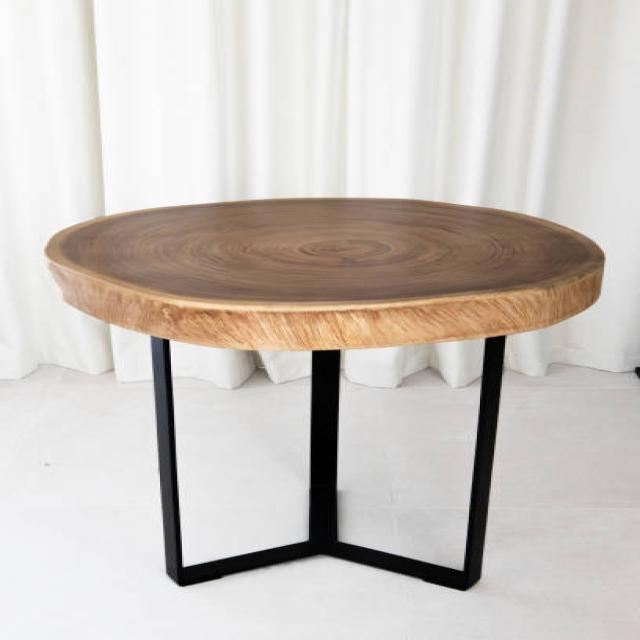table: (42, 195, 606, 591)
